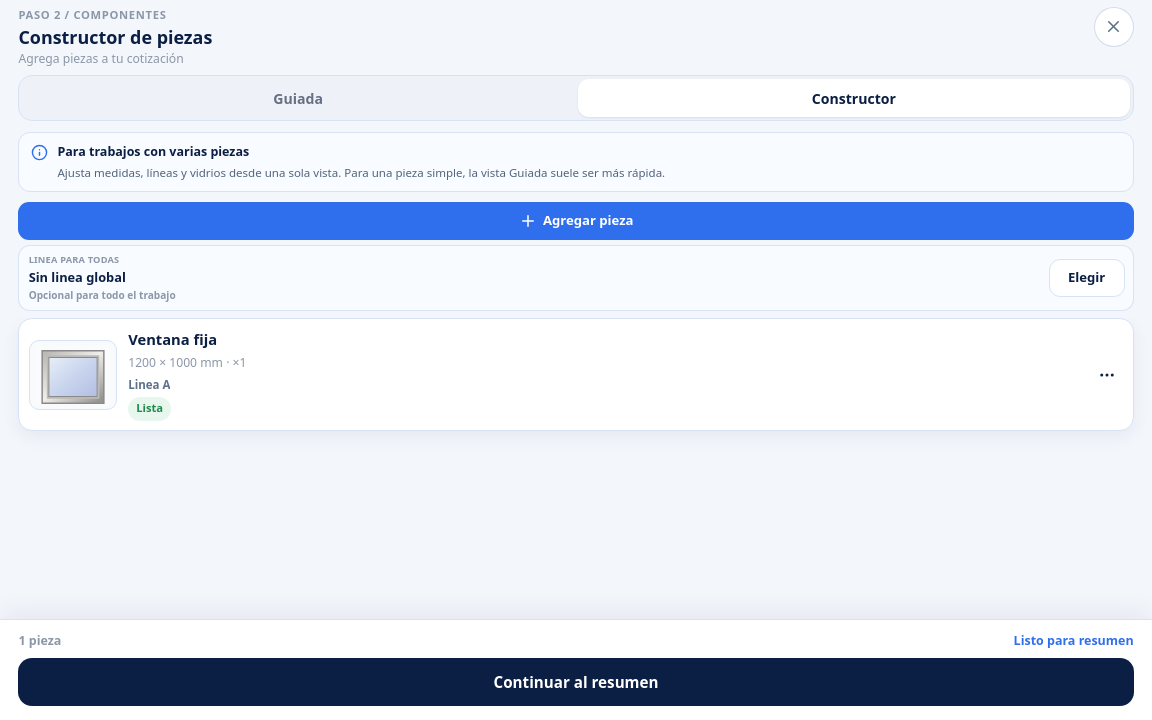
Test: PasoDosCuadernoMovil › no presume compatibilidad de líneas privadas y permite explorarlas en Mis líneas y Todas
Step 1. Click the text "Ventana fija" → (173, 339), box [128, 328, 217, 350]
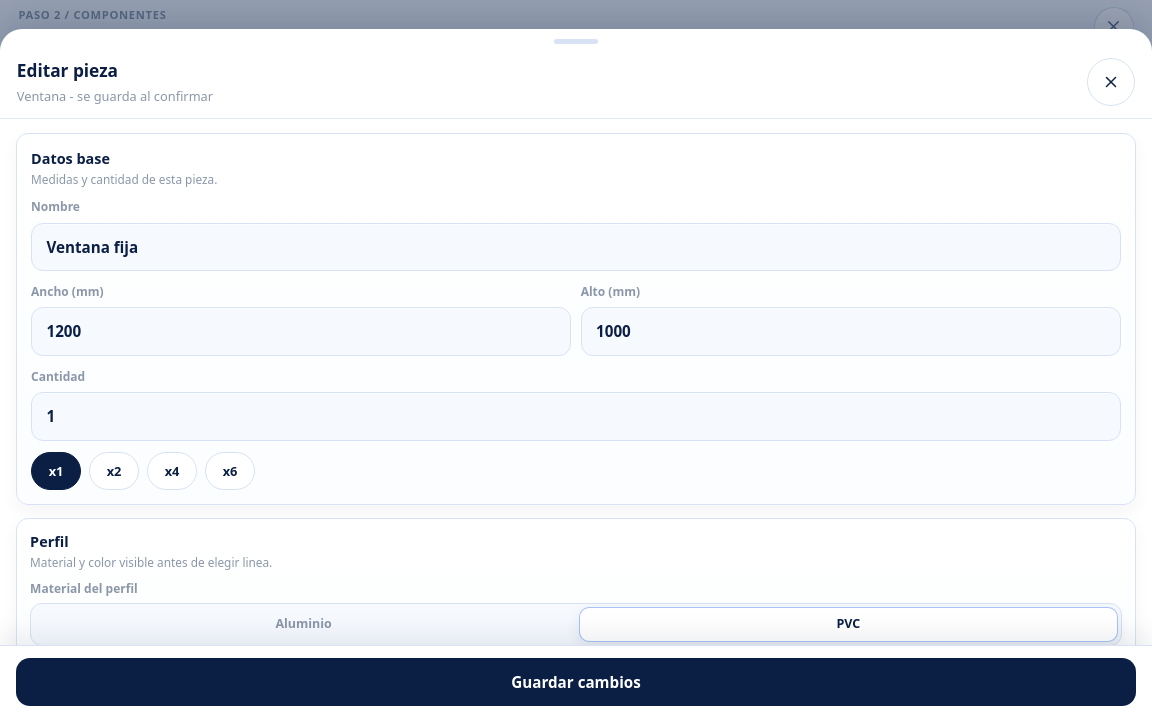
Step 2. Click the button "PVC" → (848, 624), box [579, 607, 1118, 642]
(page scrolled)
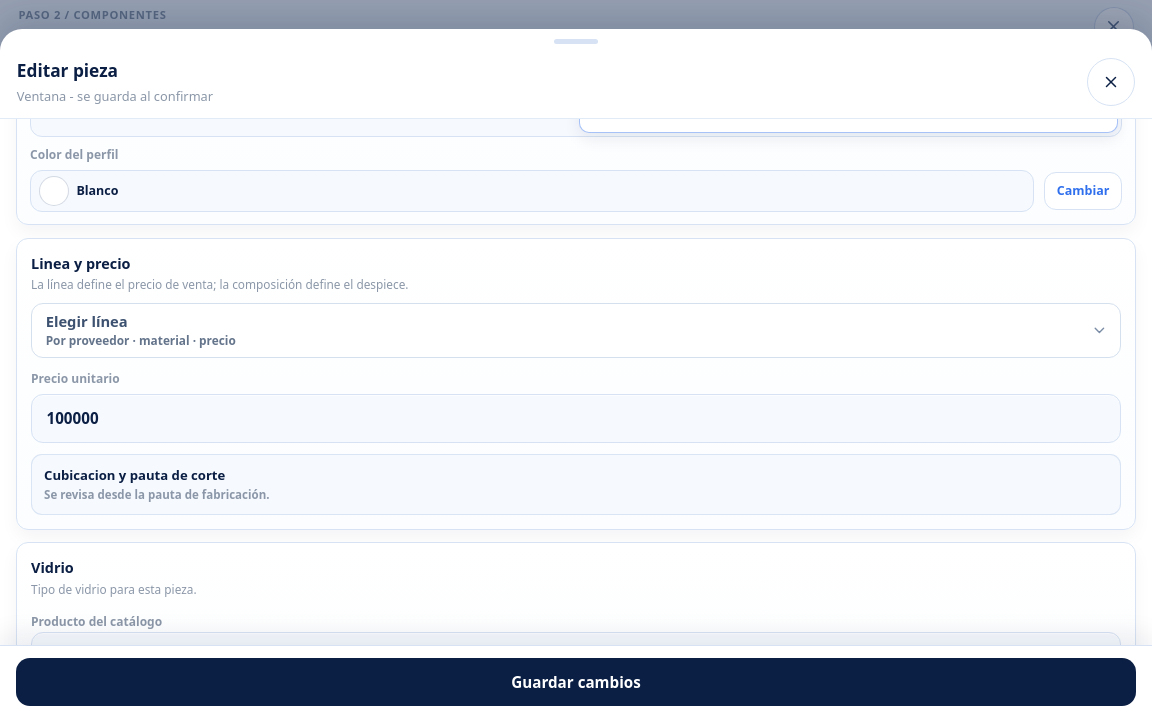
Step 3. Click the button with aria-label "Elegir linea de esta pieza" → (87, 321), box [31, 303, 1121, 358]
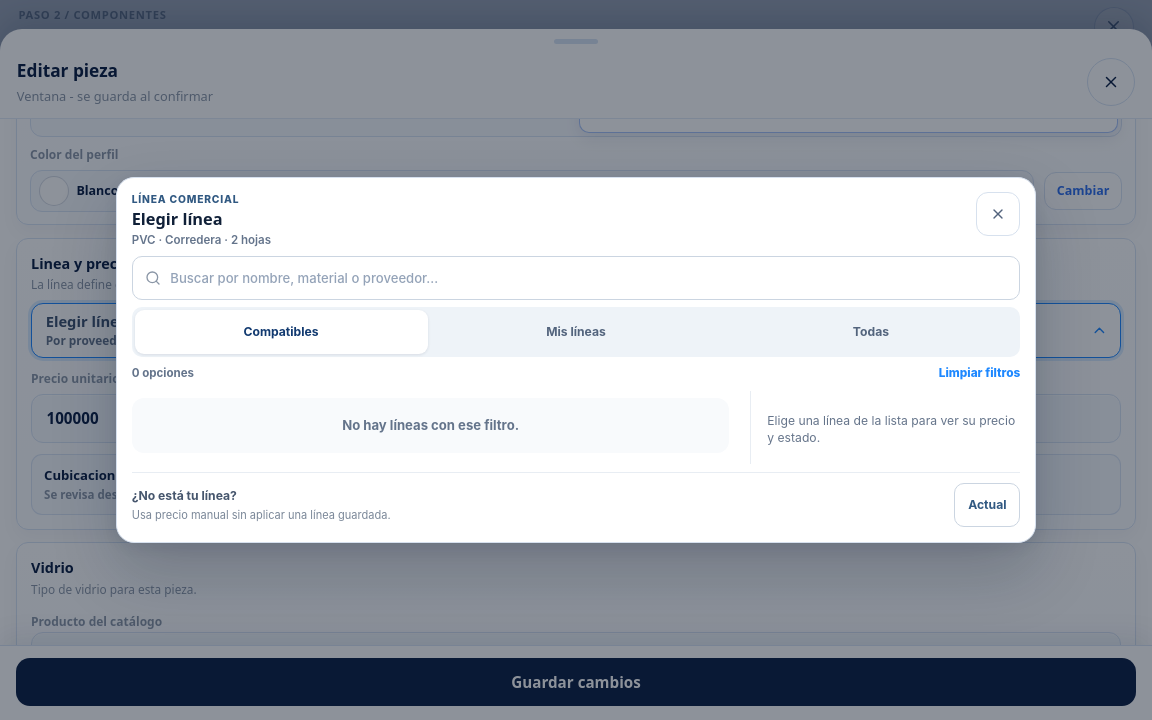
Expected: the option "PVC 25" is not shown
Step 4. Click the button "Mis líneas" → (576, 332), box [430, 310, 722, 354]
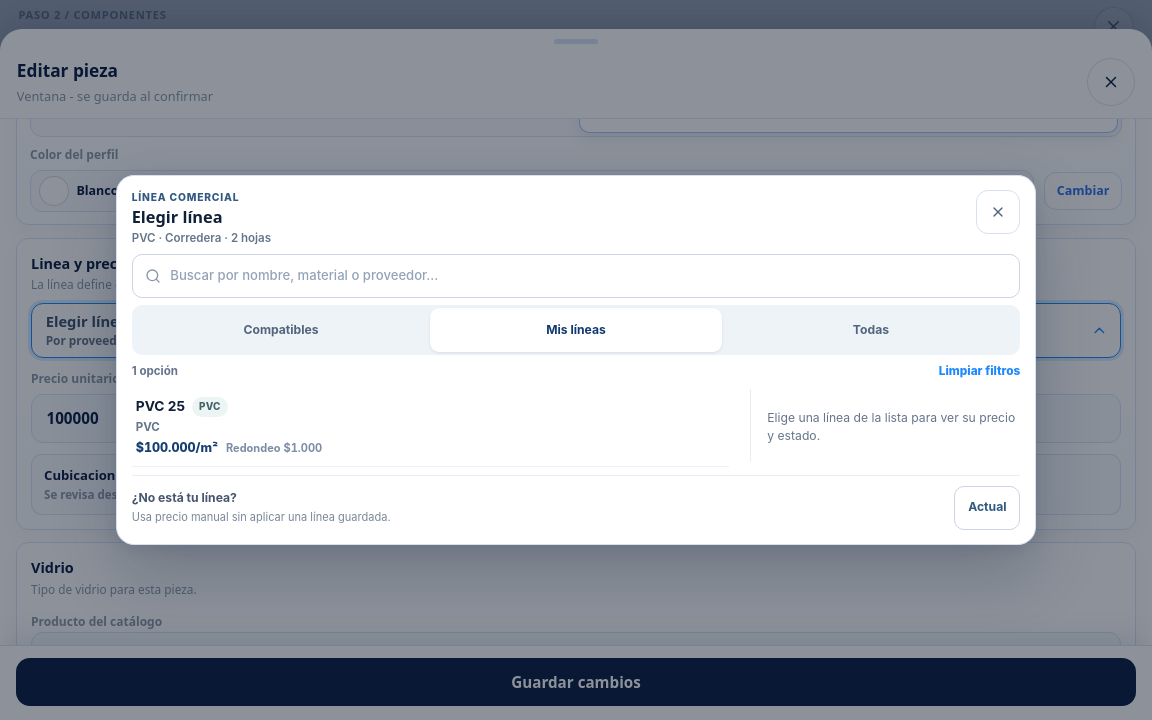
Expected: the option "Aluminio 32" is not shown
Expected: the option "PVC 25 PVC PVC $100.000/m² Redondeo $1.000" is shown, [132, 388, 730, 466]
Step 5. Click the button "Todas" → (871, 330), box [724, 308, 1017, 352]
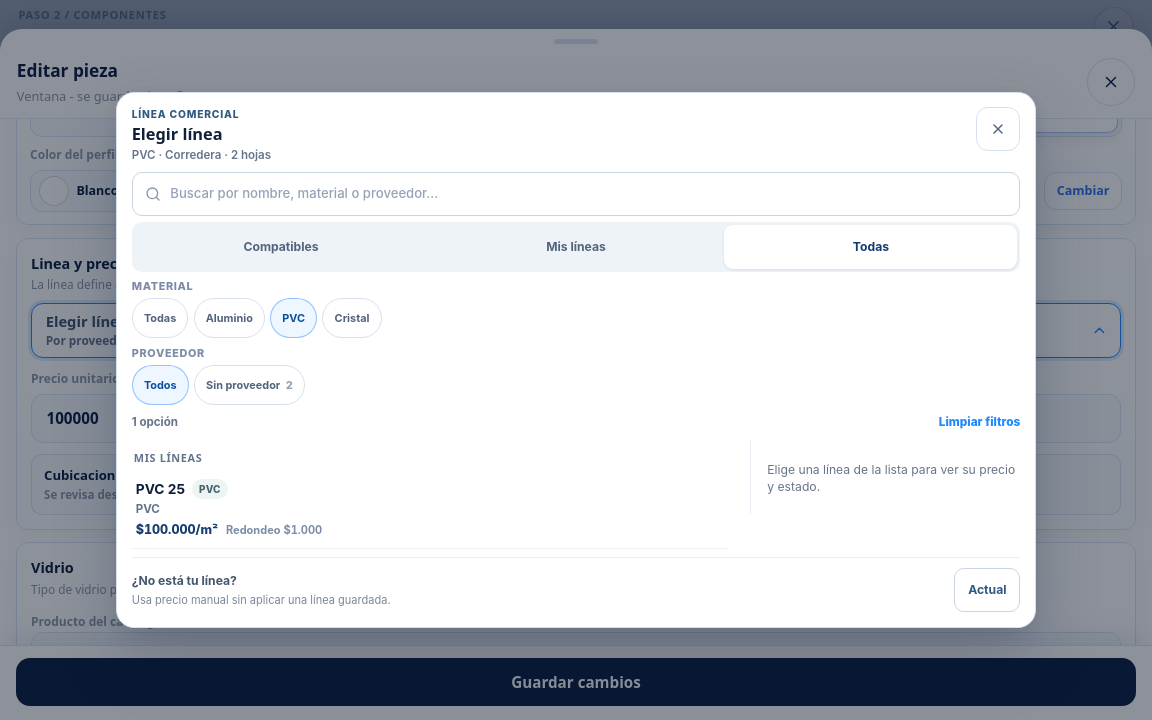
Step 6. Click the 2nd button "Todas" → (160, 318), box [132, 298, 188, 338]
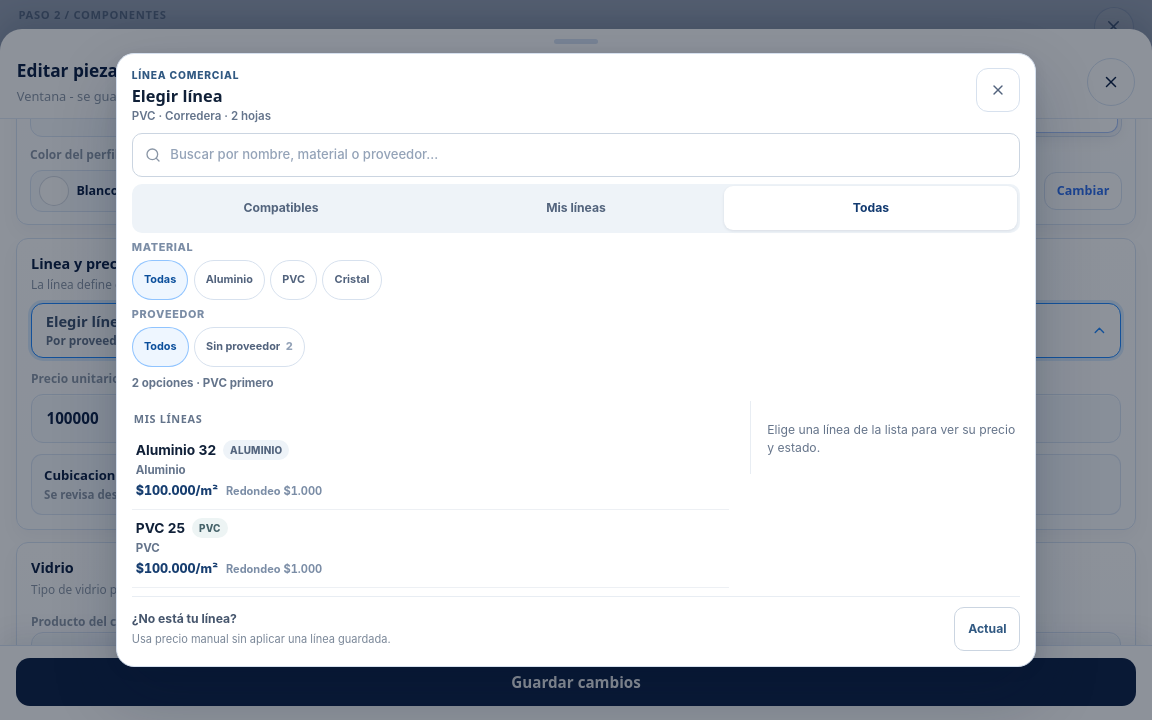
Expected: the option "PVC 25 PVC PVC $100.000/m² Redondeo $1.000" is shown, [132, 510, 730, 588]
Expected: the option "Aluminio 32 Aluminio Aluminio $100.000/m² Redondeo $1.000" is shown, [132, 432, 730, 510]
